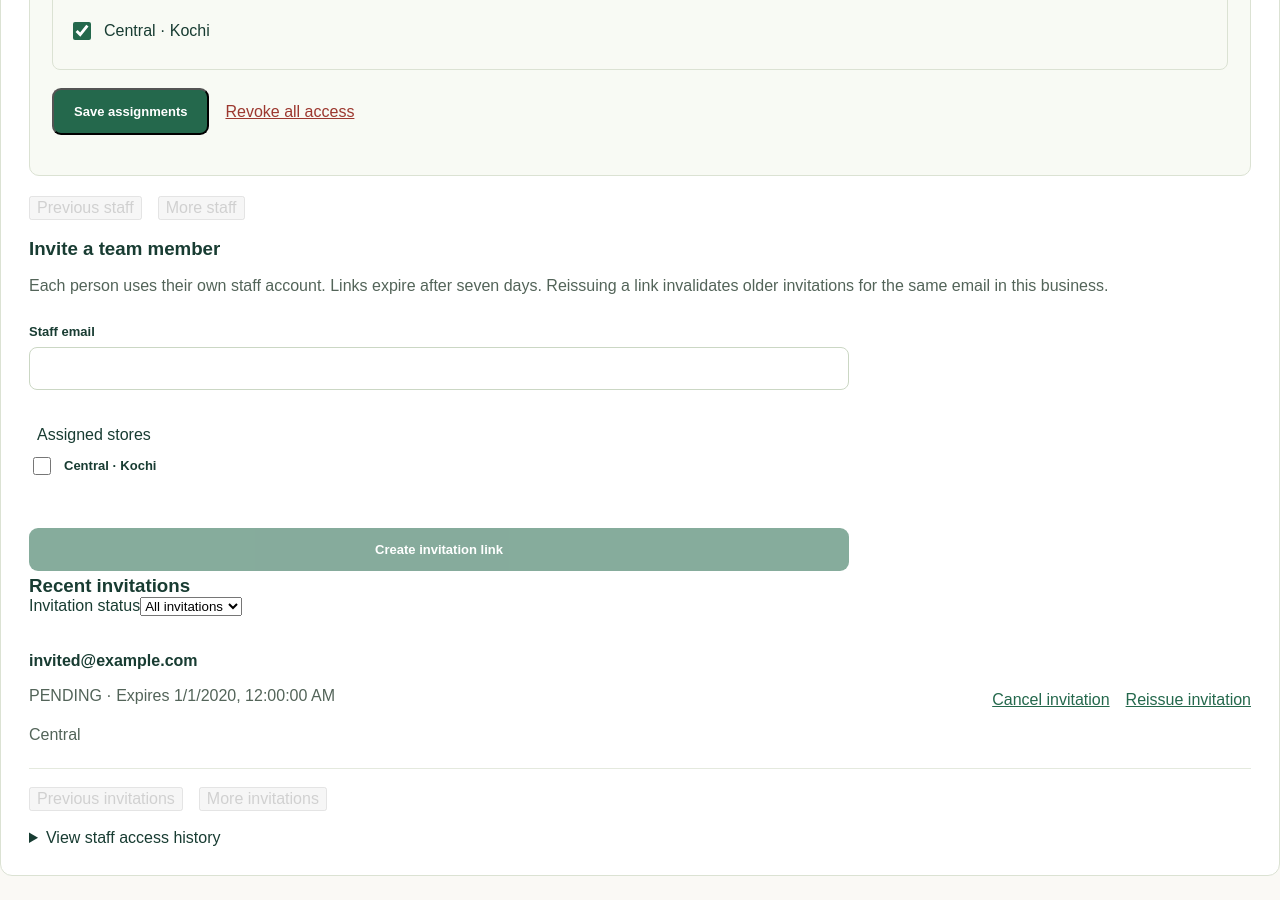
Test: reissues a link privately and clears it when cancelled
The width and height of the screenshot is (1280, 900).
(page scrolled)
Check: the text "PENDING · Expires 1/1/2020, 12:00:00 AM" is shown, box [29, 682, 335, 709]
Click the button "Reissue invitation" at {"x": 1188, "y": 700}, box [1126, 691, 1251, 709]
(page scrolled)
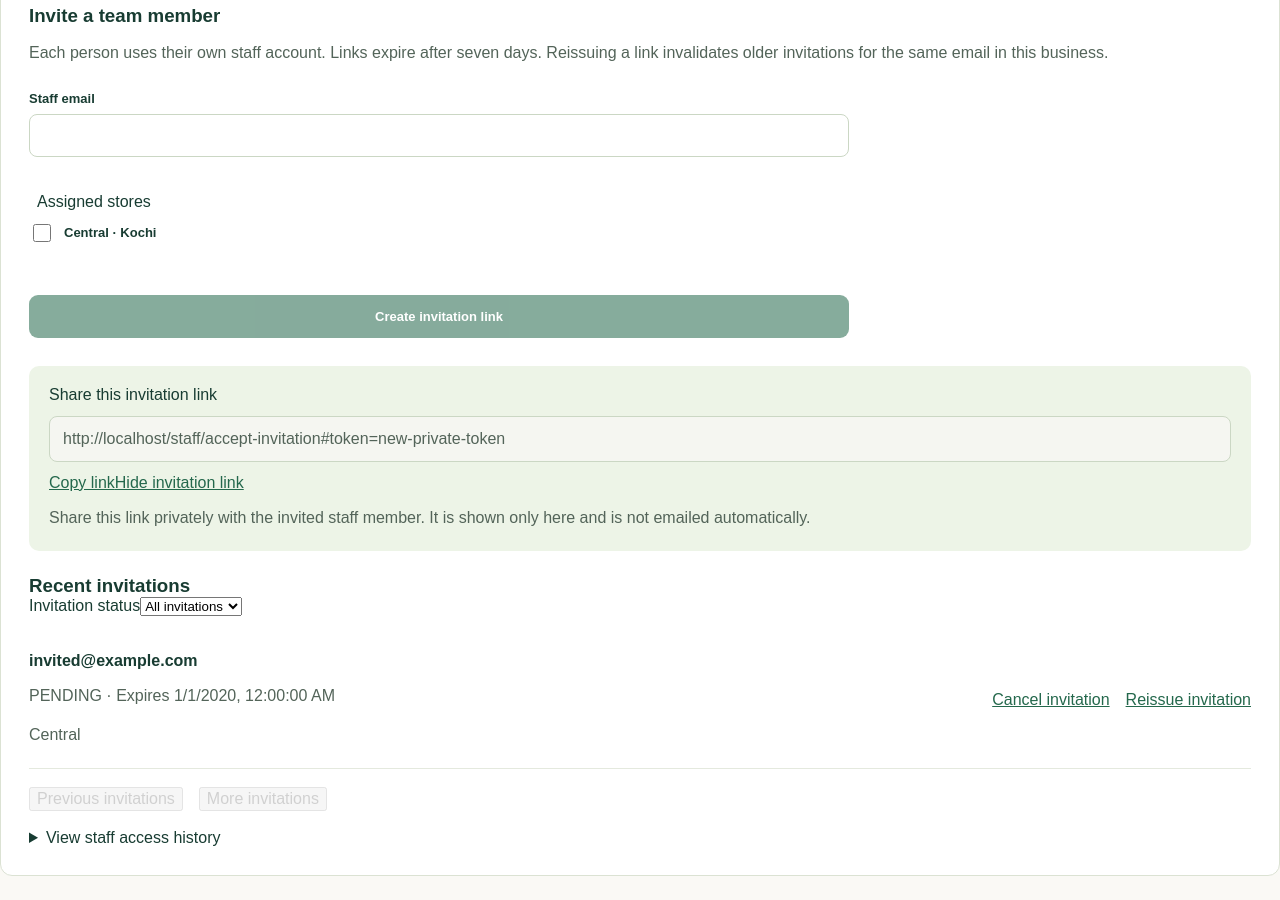
Click the button "Cancel invitation" at {"x": 1051, "y": 700}, box [992, 691, 1110, 709]
(page scrolled)
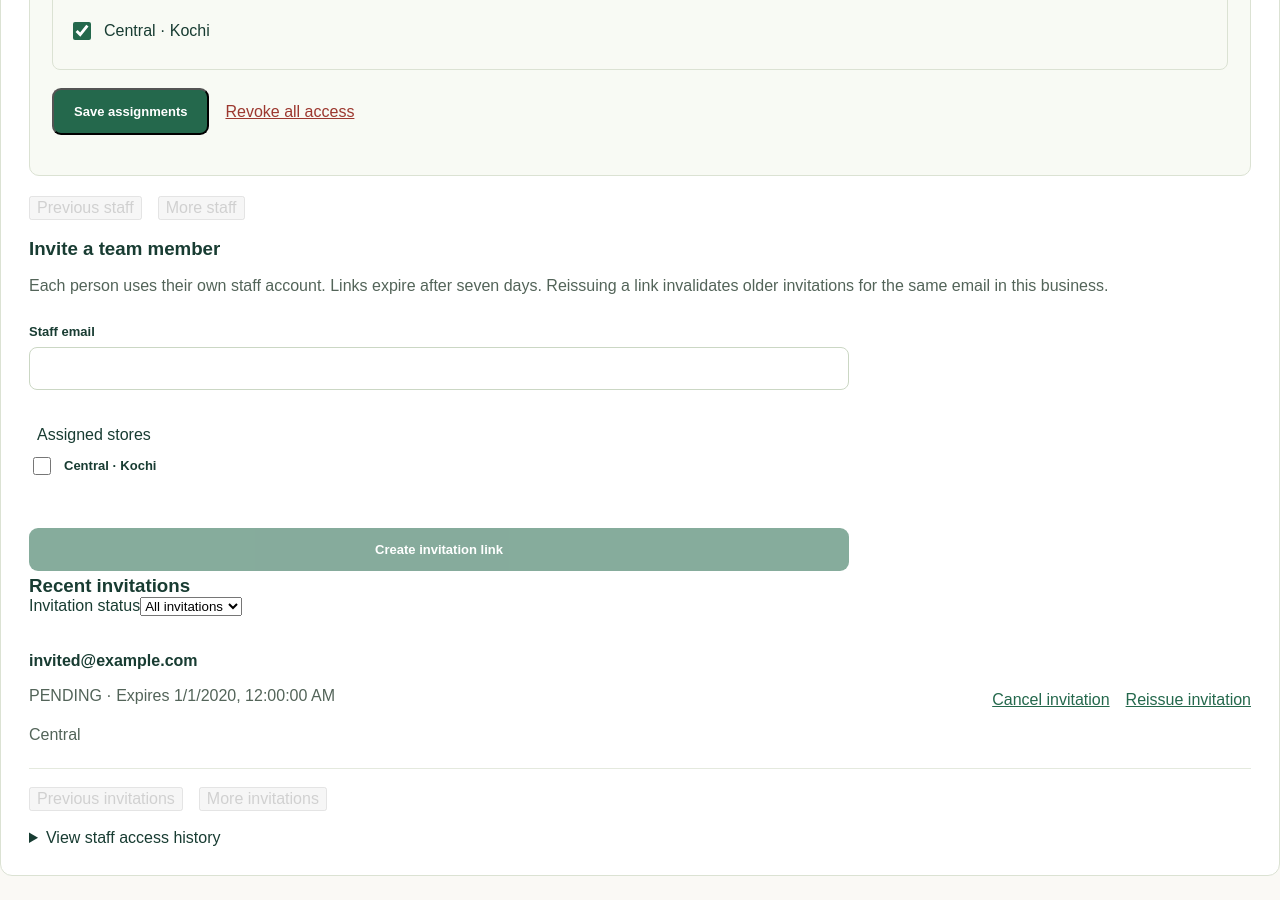
Check: the label labelled "Share this invitation link" is gone
